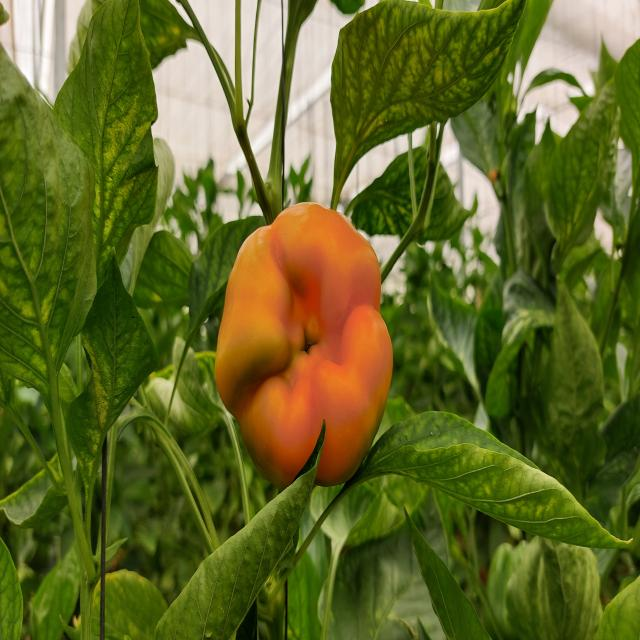Yellow-Ready-to-Harvest: (216, 196, 396, 489)
